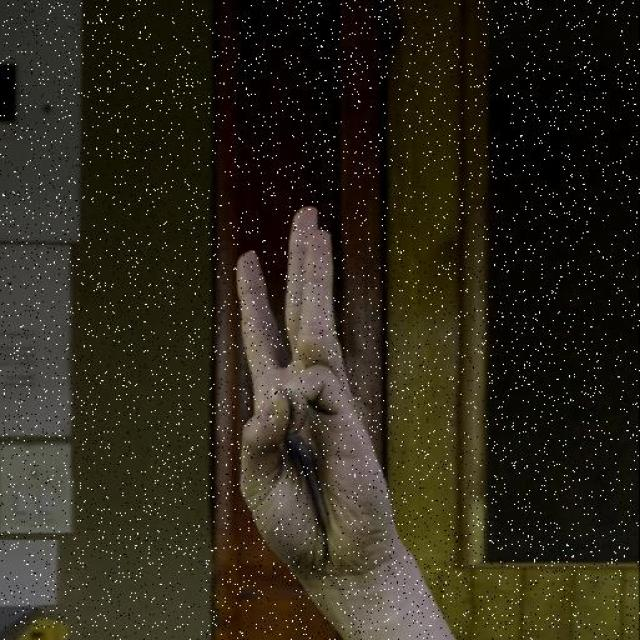W: (229, 205, 404, 590)
